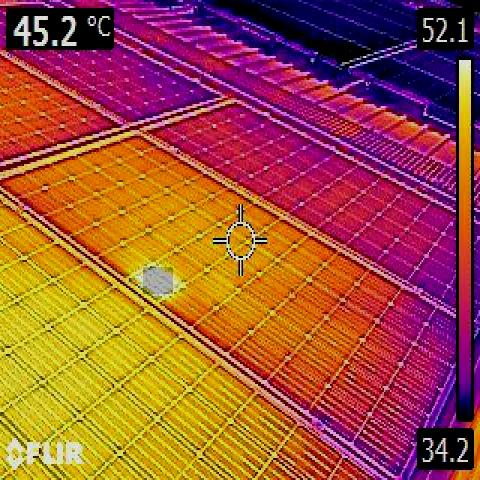fault: (143, 267, 173, 294)
